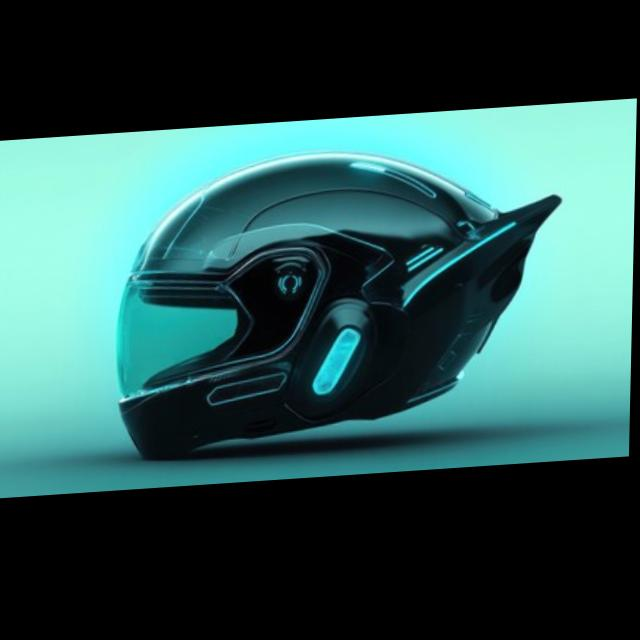motorcycle-helmets: (105, 131, 550, 471)
